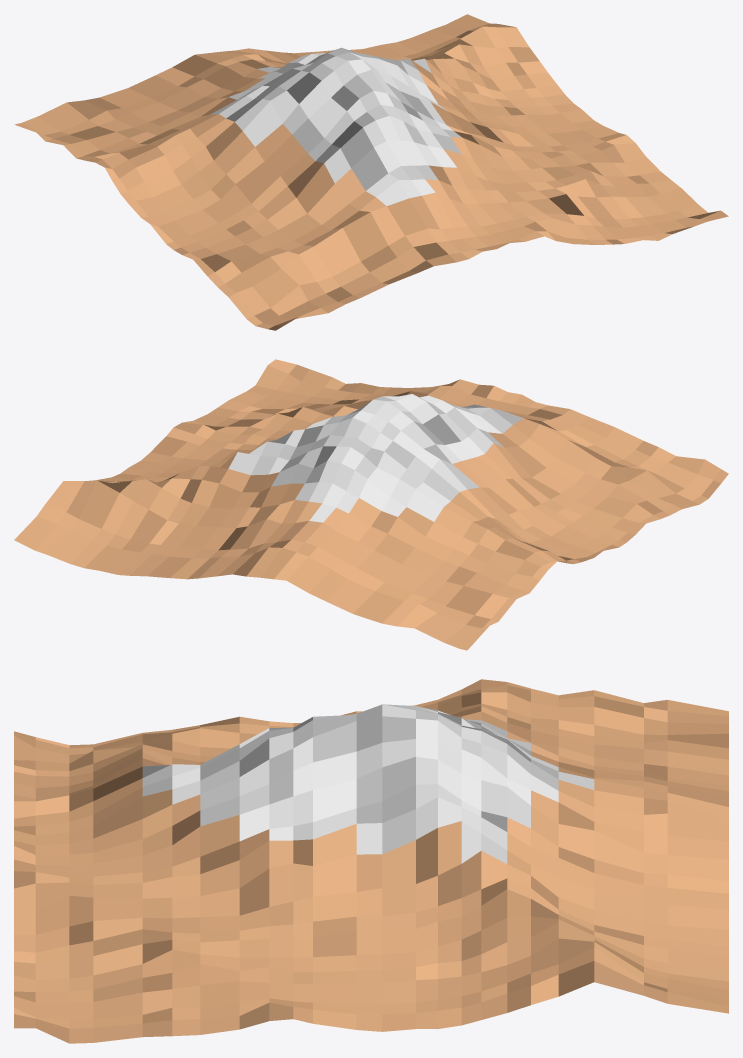
File: Background mountain.fbx
3 views of the same model, one above another, from view 1: azimuth 30°, elevation 25°; view 2: azimuth 150°, elevation 25°; view 3: azimuth 270°, elevation 25° (orthographic). The views are drawn at different scales.
Visible parts, largest first — view 1: SnowyMountainTexture:TerrainMesh; view 2: SnowyMountainTexture:TerrainMesh; view 3: SnowyMountainTexture:TerrainMesh.
Boxes of the visible parts, bbox=[...] form: SnowyMountainTexture:TerrainMesh: bbox=[14, 14, 728, 330]; SnowyMountainTexture:TerrainMesh: bbox=[14, 359, 728, 650]; SnowyMountainTexture:TerrainMesh: bbox=[14, 679, 728, 1043].
Size of the model in its own units: 103 by 28.5 by 103.
